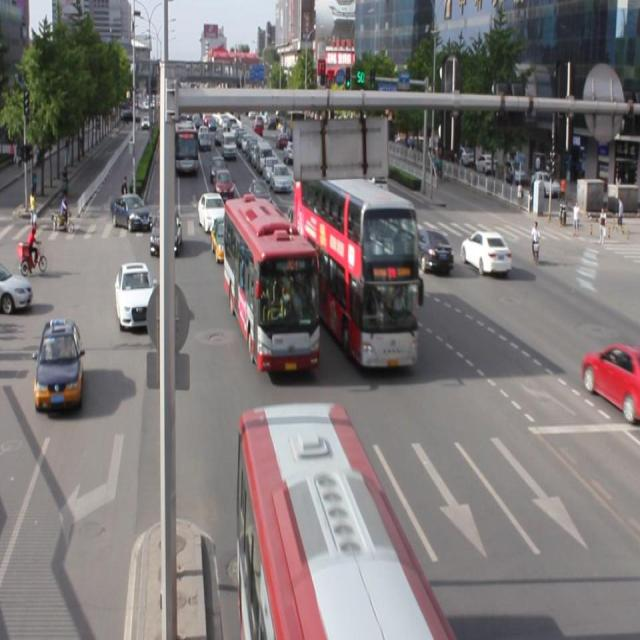car: (580, 342, 640, 426), (34, 319, 84, 410), (115, 260, 158, 330), (460, 228, 510, 275), (149, 205, 183, 252), (210, 215, 241, 260)
van: (239, 402, 452, 640), (294, 168, 417, 364), (225, 196, 319, 368)
